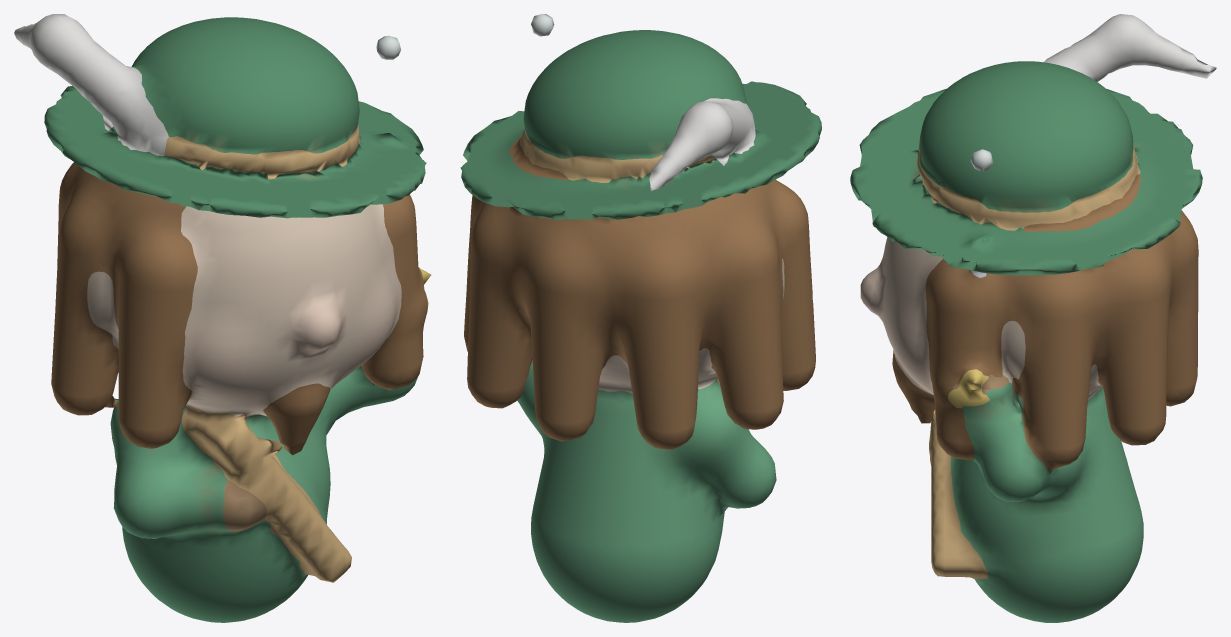
Rendered from rider_c05.glb.
3 renders of one model, left to right at view 1: azimuth 30°, elevation 25°; view 2: azimuth 150°, elevation 25°; view 3: azimuth 270°, elevation 25°, orthographic. The views are drawn at different scales.
Parts seen in each view (by area): view 1: rider_c05; view 2: rider_c05; view 3: rider_c05.
Part boxes in pixels (x1,y1,x2,y2): rider_c05: (14,14,431,622); rider_c05: (460,14,821,622); rider_c05: (850,14,1216,622).
Size of the model in its own units: 27.11 by 45.9 by 28.06.
